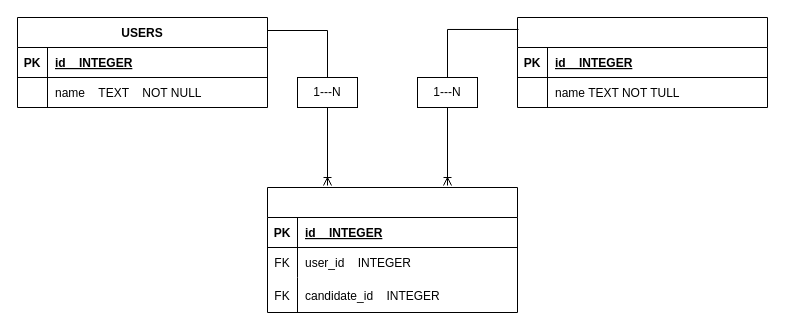
This 785x330 diagram has some shape labels left out. Here are the shapes that lost their labels. From the top down, the box of each, then its label:
(516, 16, 768, 108): CANDIDATES
(266, 186, 518, 312): VOTES
